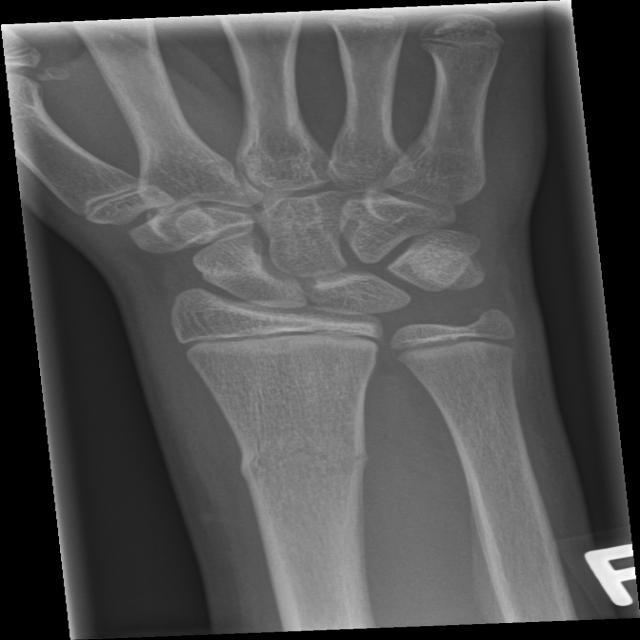radius fracture: (207, 418, 341, 544)
